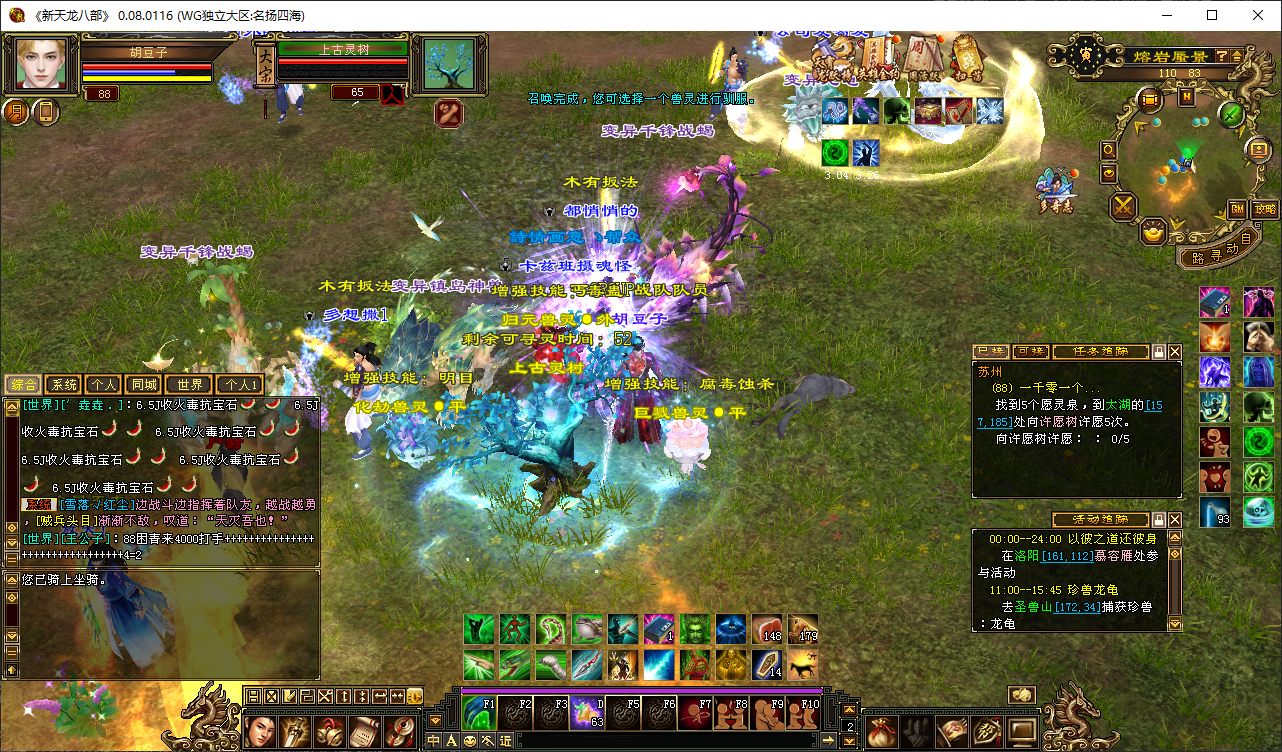cheap: (588, 358, 775, 509), (330, 363, 500, 496)
tree: (421, 385, 638, 556)
